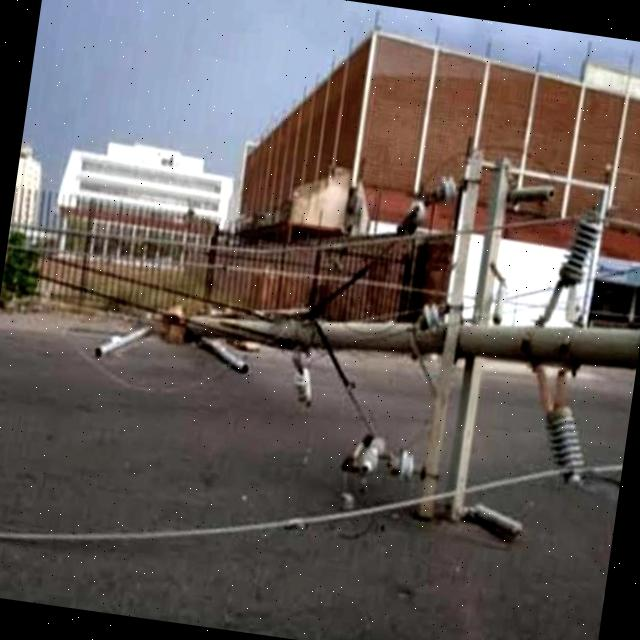Broken Pole: (80, 138, 638, 550)
